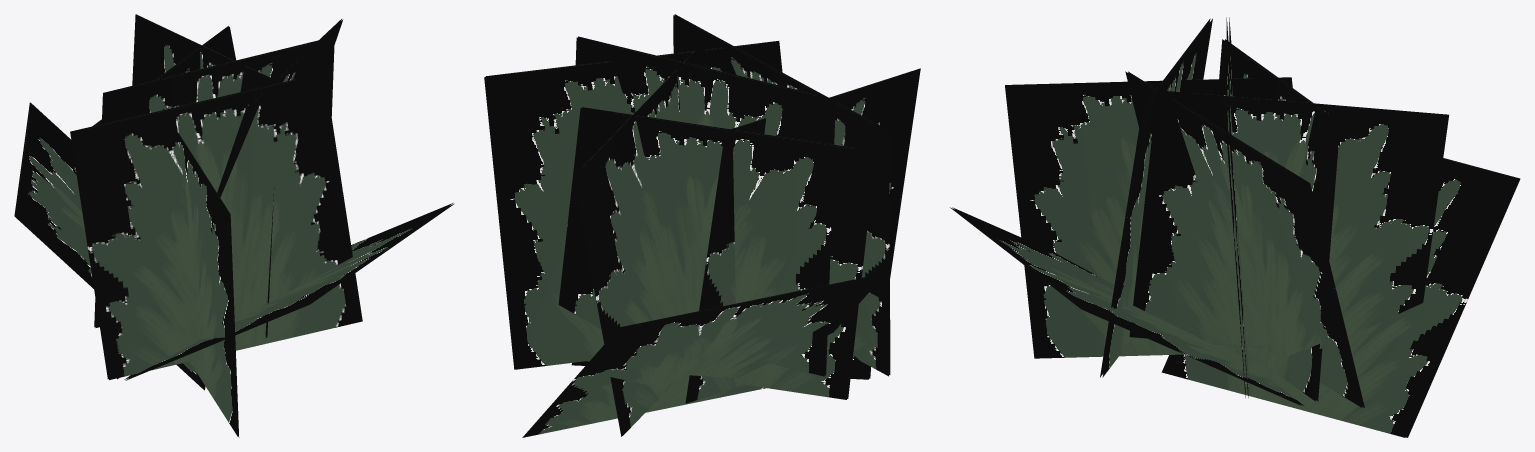
The model's file is Grass.fbx.
3 views of the same model, side by side, from view 1: azimuth 30°, elevation 25°; view 2: azimuth 150°, elevation 25°; view 3: azimuth 270°, elevation 25° (orthographic). The views are drawn at different scales.
Visible parts, largest first — view 1: Grass_1; view 2: Grass_1; view 3: Grass_1.
Boxes of the visible parts, bbox=[...] form: Grass_1: bbox=[14, 14, 454, 437]; Grass_1: bbox=[484, 14, 920, 437]; Grass_1: bbox=[950, 17, 1520, 437].
Bounding box in the file's own units: 58.29 × 46.88 × 74.79.
1 material, 1 textured.
